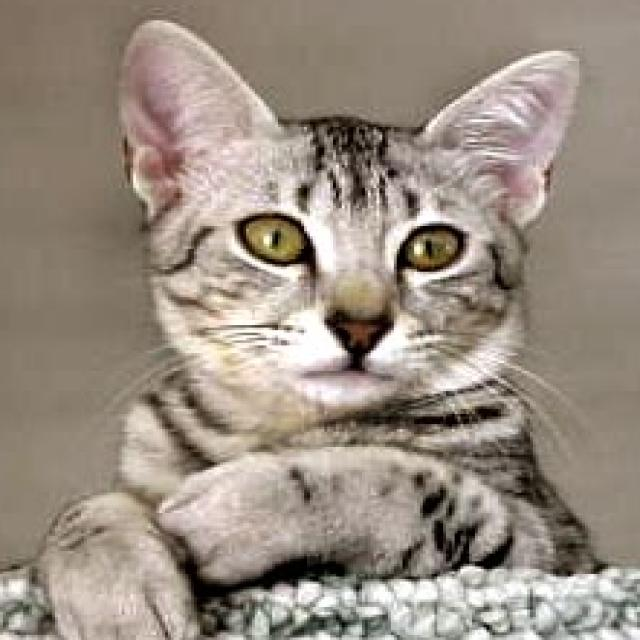Egyptian Mau: (47, 10, 606, 640)
